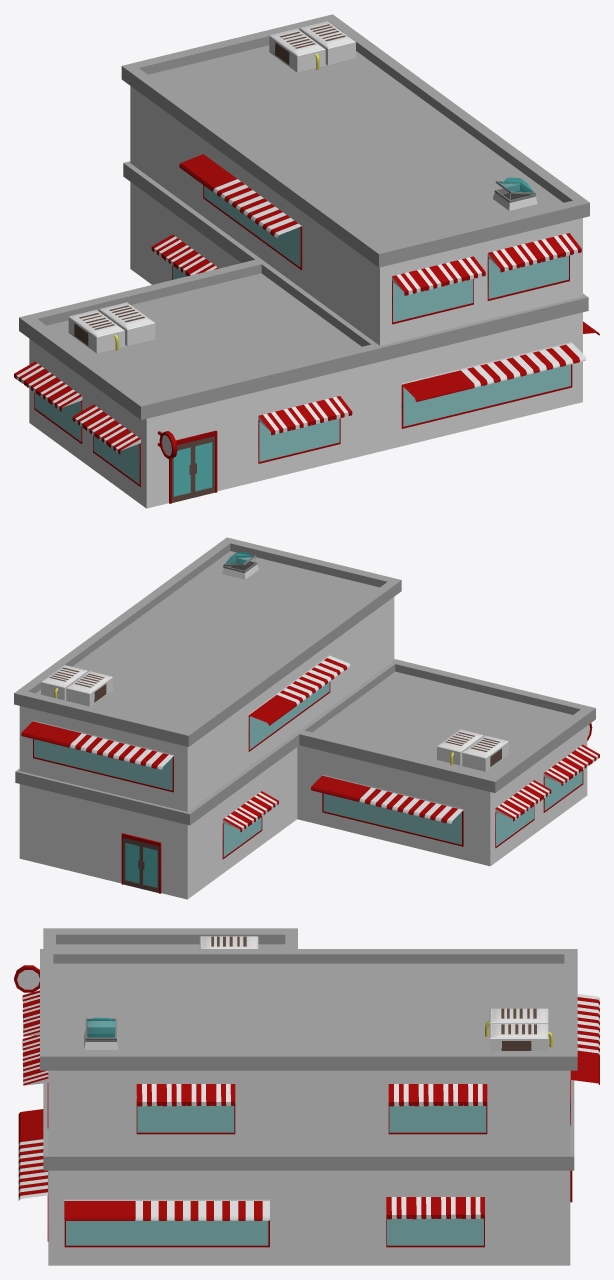
File: Building_2Story_Mod_3.fbx
The picture shows the model from 3 angles, top to bottom: view 1: azimuth 30°, elevation 25°; view 2: azimuth 150°, elevation 25°; view 3: azimuth 270°, elevation 25°; orthographic projection. The views are drawn at different scales.
Parts seen in each view (by area): view 1: Building21, Roof7, Windows, Roof6, Aircon24, Aircon22, Aircon23, Aircon21, Door43, Door42, RoofLatch3; view 2: Building21, Roof7, Windows, Roof6, Aircon22, Aircon24, Aircon21, Aircon23, DoorLeft3, DoorRight3, RoofLatch3; view 3: Building21, Roof7, Windows, Roof6, Aircon23, RoofLatch3, Aircon24, Aircon22, Sign8.
Part boxes in pixels (x1,y1,x2,y2): Building21: [29, 86, 588, 508]; Roof7: [121, 14, 589, 267]; Windows: [14, 153, 599, 486]; Roof6: [19, 258, 394, 419]; Aircon24: [269, 29, 325, 72]; Aircon22: [68, 310, 124, 353]; Aircon23: [300, 21, 355, 65]; Aircon21: [99, 302, 155, 345]; Door43: [193, 436, 214, 497]; Door42: [172, 441, 193, 502]; RoofLatch3: [493, 177, 537, 210]; Building21: [15, 597, 587, 899]; Roof7: [14, 537, 401, 746]; Windows: [21, 655, 599, 859]; Roof6: [297, 659, 595, 792]; Aircon22: [462, 735, 508, 771]; Aircon24: [66, 671, 112, 706]; Aircon21: [437, 729, 483, 765]; Aircon23: [41, 665, 87, 700]; DoorLeft3: [123, 837, 141, 888]; DoorRight3: [141, 842, 158, 892]; RoofLatch3: [222, 552, 258, 579]; Building21: [43, 1070, 574, 1265]; Roof7: [40, 949, 577, 1070]; Windows: [18, 990, 599, 1247]; Roof6: [43, 928, 297, 948]; Aircon23: [489, 1024, 552, 1050]; RoofLatch3: [84, 1017, 118, 1049]; Aircon24: [485, 1008, 548, 1036]; Aircon22: [199, 936, 258, 948]; Sign8: [14, 965, 39, 992].
Size of the model in its own units: 18.95 by 8.06 by 19.09.
